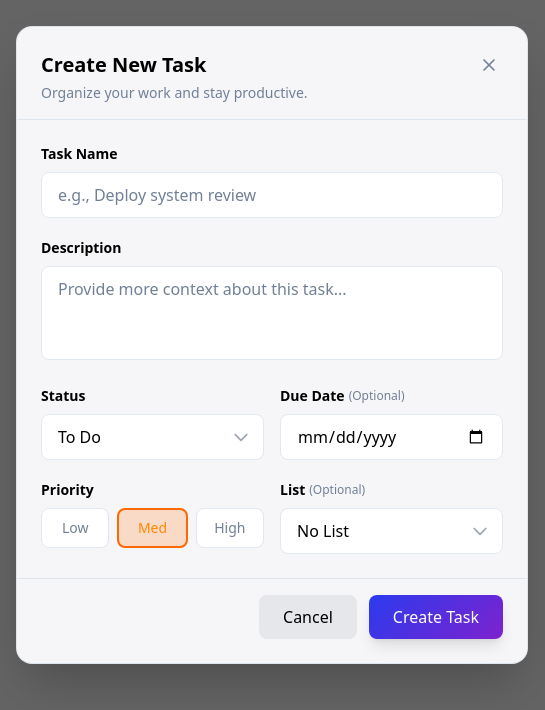
Test: CreateTaskModal - Integration Tests › should validate required task name field
# Try to submit without task name
Click the button "Create Task": click(436, 617) [369,595,503,639]
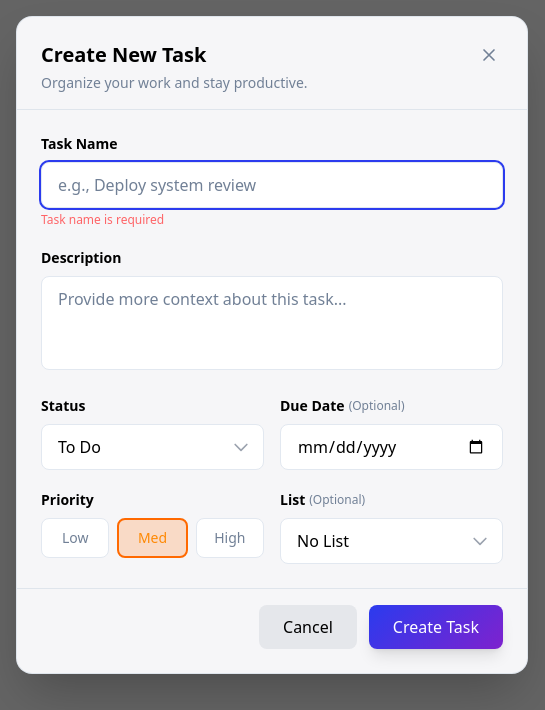
Now the text "Task name is required" is shown, box [41,211,164,228]
